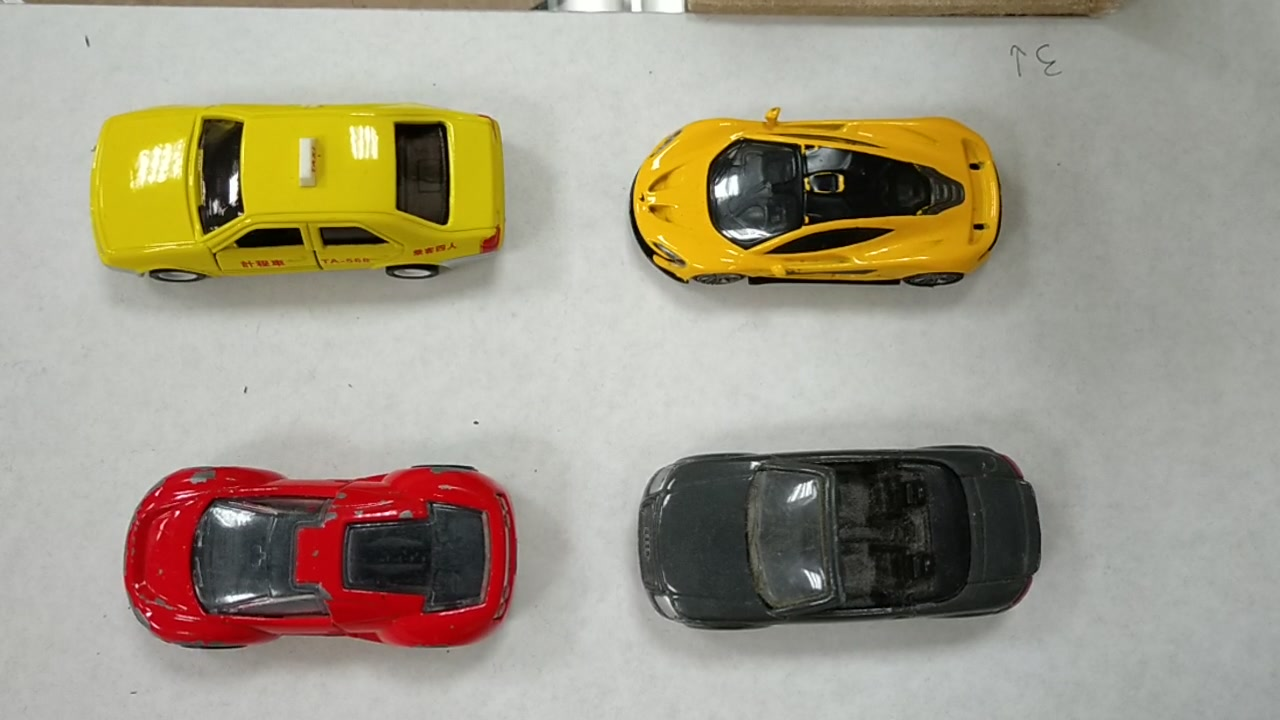car: (621, 97, 1010, 305), (112, 466, 520, 659), (636, 443, 1045, 633), (80, 113, 508, 291)
